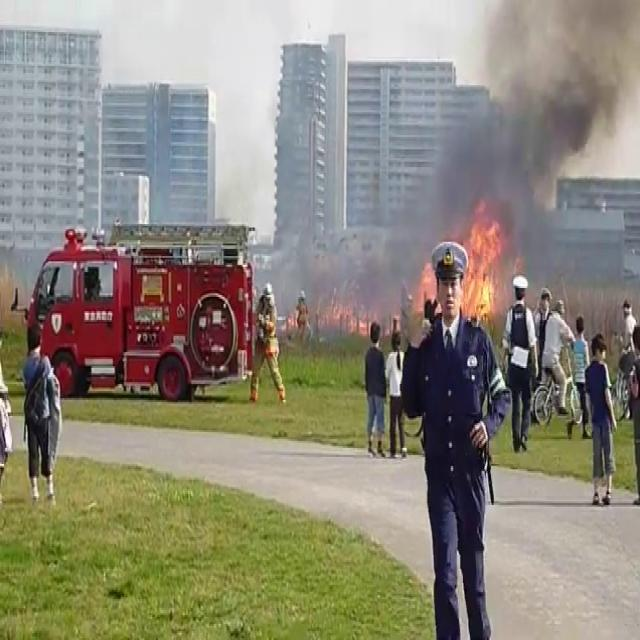Fire: (455, 210, 510, 316)
Smoke: (425, 0, 640, 256)
